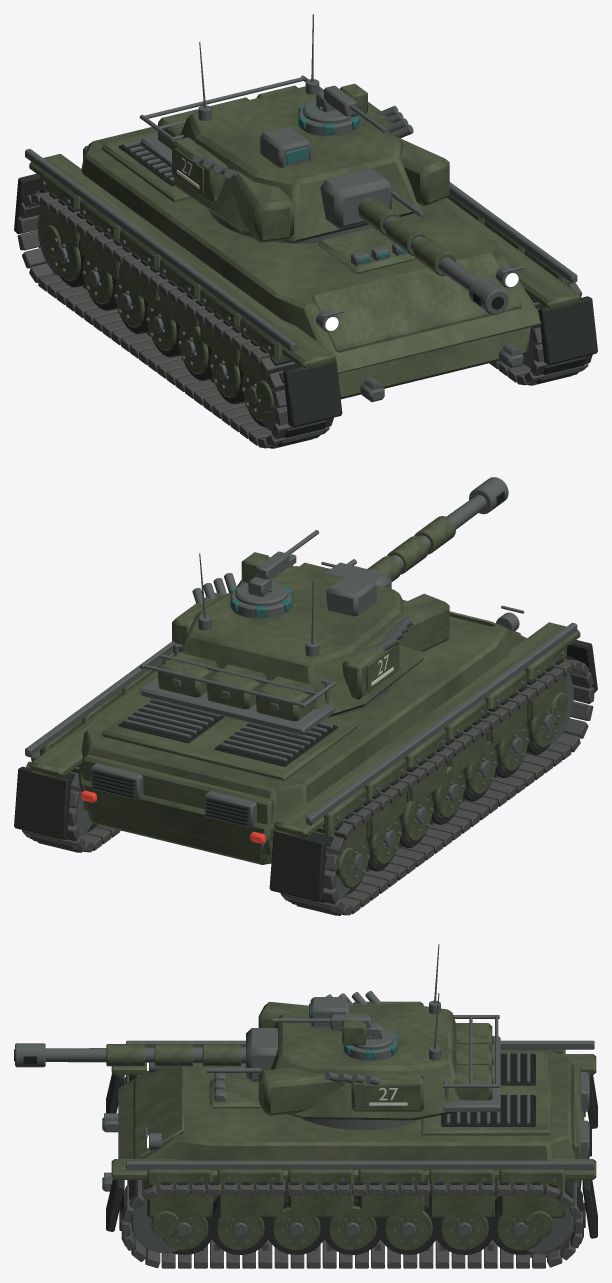
Rendered from tank_CF-27.glb.
3 renders of one model, top to bottom at view 1: azimuth 30°, elevation 25°; view 2: azimuth 150°, elevation 25°; view 3: azimuth 270°, elevation 25°, orthographic. The views are drawn at different scales.
Visible parts, largest first — view 1: Hull_CF27_Armor_PBR_2K, Turret_CF27_Armor_PBR_2K, Tracks_L_CF27_TrackSteel, Skirts_CF27_Armor_PBR_2K, Fenders_CF27_Armor_PBR_2K, Turret_armor_CF27_Armor_PBR_2K, Fenders_CF27_Rubber, Roadwheels_L_CF27_Armor_PBR_2K, Fenders_CF27_Gunmetal, Deck_CF27_Armor_PBR_2K, Mantlet_CF27_Gunmetal, Gun_sleeves_CF27_Armor_PBR_2K (+19 smaller); view 2: Hull_CF27_Armor_PBR_2K, Turret_CF27_Armor_PBR_2K, Tracks_L_CF27_TrackSteel, Skirts_CF27_Armor_PBR_2K, Fenders_CF27_Rubber, Fenders_CF27_Armor_PBR_2K, Roadwheels_L_CF27_Armor_PBR_2K, Fenders_CF27_Gunmetal, Stowage_CF27_Armor_PBR_2K, Deck_CF27_Armor_PBR_2K, Bustle_CF27_Gunmetal, Turret_armor_CF27_Armor_PBR_2K (+21 smaller); view 3: Hull_CF27_Armor_PBR_2K, Skirts_CF27_Armor_PBR_2K, Tracks_R_CF27_TrackSteel, Turret_CF27_Armor_PBR_2K, Roadwheels_R_CF27_Armor_PBR_2K, Fenders_CF27_Gunmetal, Turret_armor_CF27_Armor_PBR_2K, Deck_CF27_Armor_PBR_2K, Roadwheels_R_CF27_Rubber, Gun_sleeves_CF27_Armor_PBR_2K, Stowage_CF27_Armor_PBR_2K, Engine_CF27_Recess (+22 smaller).
Part boxes in pixels (box(x1,y1,x2,y2)): Hull_CF27_Armor_PBR_2K: box(81, 125, 541, 399); Turret_CF27_Armor_PBR_2K: box(171, 86, 421, 242); Tracks_L_CF27_TrackSteel: box(17, 192, 333, 448); Skirts_CF27_Armor_PBR_2K: box(40, 170, 566, 392); Fenders_CF27_Armor_PBR_2K: box(29, 153, 580, 369); Turret_armor_CF27_Armor_PBR_2K: box(172, 102, 449, 243); Fenders_CF27_Rubber: box(14, 173, 597, 427); Roadwheels_L_CF27_Armor_PBR_2K: box(52, 229, 270, 420); Fenders_CF27_Gunmetal: box(25, 86, 577, 351); Deck_CF27_Armor_PBR_2K: box(102, 131, 414, 273); Mantlet_CF27_Gunmetal: box(320, 168, 391, 229); Gun_sleeves_CF27_Armor_PBR_2K: box(358, 197, 455, 275); Hull_CF27_Armor_PBR_2K: box(78, 600, 526, 864); Turret_CF27_Armor_PBR_2K: box(179, 566, 424, 717); Tracks_L_CF27_TrackSteel: box(280, 659, 594, 915); Skirts_CF27_Armor_PBR_2K: box(40, 640, 566, 856); Fenders_CF27_Rubber: box(14, 640, 597, 901); Fenders_CF27_Armor_PBR_2K: box(29, 562, 580, 838); Roadwheels_L_CF27_Armor_PBR_2K: box(340, 696, 558, 888); Fenders_CF27_Gunmetal: box(25, 554, 577, 825); Stowage_CF27_Armor_PBR_2K: box(158, 652, 317, 721); Deck_CF27_Armor_PBR_2K: box(102, 698, 357, 780); Bustle_CF27_Gunmetal: box(139, 641, 336, 735); Turret_armor_CF27_Armor_PBR_2K: box(172, 562, 449, 699); Hull_CF27_Armor_PBR_2K: box(118, 1049, 584, 1202); Skirts_CF27_Armor_PBR_2K: box(147, 1049, 565, 1217); Tracks_R_CF27_TrackSteel: box(121, 1179, 583, 1268); Turret_CF27_Armor_PBR_2K: box(270, 1003, 459, 1120); Roadwheels_R_CF27_Armor_PBR_2K: box(162, 1205, 542, 1250); Fenders_CF27_Gunmetal: box(126, 1040, 594, 1169); Turret_armor_CF27_Armor_PBR_2K: box(258, 1001, 423, 1115); Deck_CF27_Armor_PBR_2K: box(209, 1053, 550, 1135); Roadwheels_R_CF27_Rubber: box(172, 1190, 532, 1254); Gun_sleeves_CF27_Armor_PBR_2K: box(106, 1044, 240, 1066); Stowage_CF27_Armor_PBR_2K: box(453, 1023, 492, 1100); Engine_CF27_Recess: box(441, 1053, 535, 1126).
Bounding box in the file's own units: 4 × 3.23 × 7.29.
9 materials, 1 textured.
